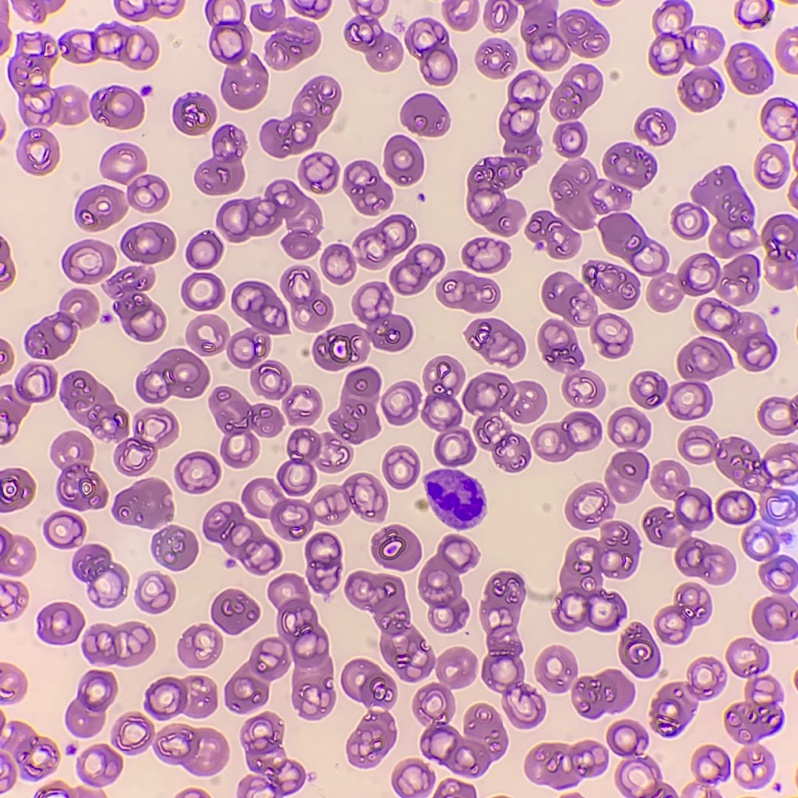RBC: (550, 143, 758, 311), (225, 574, 334, 719), (467, 71, 549, 235), (278, 367, 380, 495), (413, 648, 507, 776), (643, 461, 734, 583), (678, 426, 797, 519), (480, 572, 545, 728), (345, 572, 434, 681), (242, 474, 386, 540), (553, 521, 638, 631), (313, 282, 412, 370), (484, 0, 609, 69), (725, 638, 782, 787), (216, 180, 321, 258), (463, 373, 546, 471), (542, 272, 632, 357), (673, 166, 757, 257), (9, 35, 86, 125), (206, 1, 267, 109), (260, 76, 340, 157), (742, 525, 797, 640), (341, 659, 396, 767), (209, 387, 282, 467), (538, 320, 604, 407), (422, 356, 474, 466), (695, 298, 774, 370), (237, 713, 304, 797), (419, 535, 477, 632), (652, 658, 725, 735), (203, 502, 280, 574), (649, 0, 722, 74), (227, 281, 288, 368), (668, 337, 731, 419), (25, 289, 98, 359), (607, 720, 672, 797), (250, 0, 320, 69), (60, 371, 128, 438), (51, 431, 107, 509), (107, 267, 165, 341), (605, 408, 650, 502), (114, 409, 177, 475), (66, 25, 158, 69), (0, 364, 56, 433), (344, 5, 402, 71), (525, 741, 608, 787), (136, 349, 208, 402), (154, 724, 228, 775), (424, 469, 485, 529), (72, 544, 128, 607), (195, 125, 245, 194), (405, 19, 457, 85), (65, 670, 116, 737), (532, 412, 601, 461), (1, 722, 58, 781), (655, 583, 711, 643), (281, 266, 332, 331), (356, 215, 415, 268), (83, 622, 154, 666), (145, 676, 216, 719), (572, 669, 634, 717), (113, 479, 173, 528), (550, 64, 602, 120), (466, 319, 524, 366), (390, 244, 443, 294), (582, 261, 638, 308), (762, 214, 797, 289), (343, 161, 392, 214), (436, 271, 499, 312), (526, 211, 580, 258), (62, 240, 115, 283), (89, 86, 143, 128), (75, 185, 125, 230), (121, 222, 175, 263), (726, 43, 769, 94), (566, 483, 613, 529), (372, 525, 420, 570), (305, 533, 341, 593), (619, 624, 659, 677), (211, 590, 259, 634), (151, 526, 197, 570), (401, 94, 449, 136), (384, 135, 423, 185), (38, 602, 83, 644), (77, 744, 122, 786), (17, 128, 58, 174), (175, 452, 220, 493), (679, 68, 721, 111), (178, 625, 221, 667), (100, 143, 146, 182), (536, 648, 576, 692), (173, 93, 215, 134), (111, 712, 153, 753), (298, 152, 338, 193), (186, 317, 228, 355), (382, 382, 420, 424), (392, 759, 434, 797), (462, 238, 508, 272), (476, 39, 516, 78), (182, 273, 224, 310), (692, 745, 729, 787), (0, 529, 34, 574), (136, 573, 174, 613), (761, 98, 797, 140), (758, 397, 797, 435), (127, 175, 168, 211), (383, 447, 419, 488), (44, 512, 85, 548), (0, 469, 34, 512), (635, 108, 674, 145), (251, 361, 290, 398), (114, 0, 183, 20), (186, 231, 222, 269), (283, 386, 321, 422), (755, 144, 786, 188), (630, 372, 667, 408), (321, 244, 355, 283), (716, 491, 753, 524), (554, 122, 586, 157), (0, 581, 27, 620), (443, 0, 478, 30), (14, 0, 62, 21), (435, 779, 475, 797), (293, 1, 324, 17), (0, 0, 9, 52), (0, 240, 13, 273), (0, 340, 12, 372), (38, 782, 63, 797), (10, 676, 26, 698), (776, 36, 789, 57), (752, 14, 769, 27), (67, 789, 94, 797), (783, 59, 797, 73), (234, 0, 244, 14), (0, 664, 9, 676), (705, 791, 718, 797), (792, 196, 797, 206), (0, 717, 4, 726), (96, 793, 104, 797)
